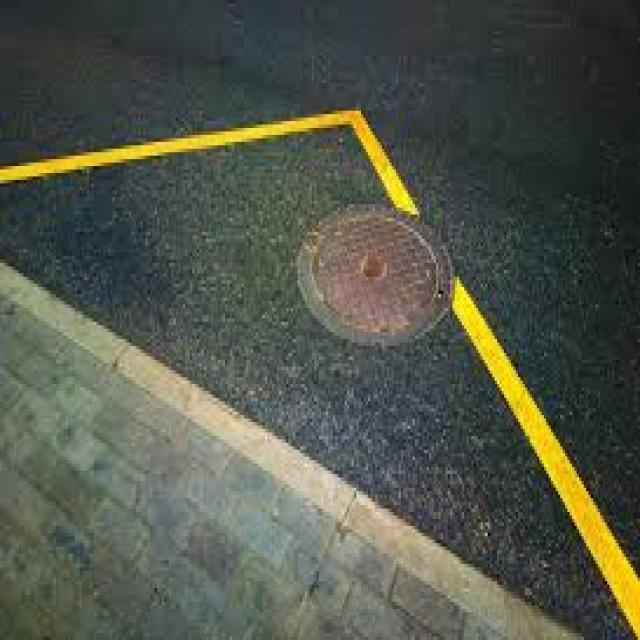manhole: (311, 214, 438, 332)
